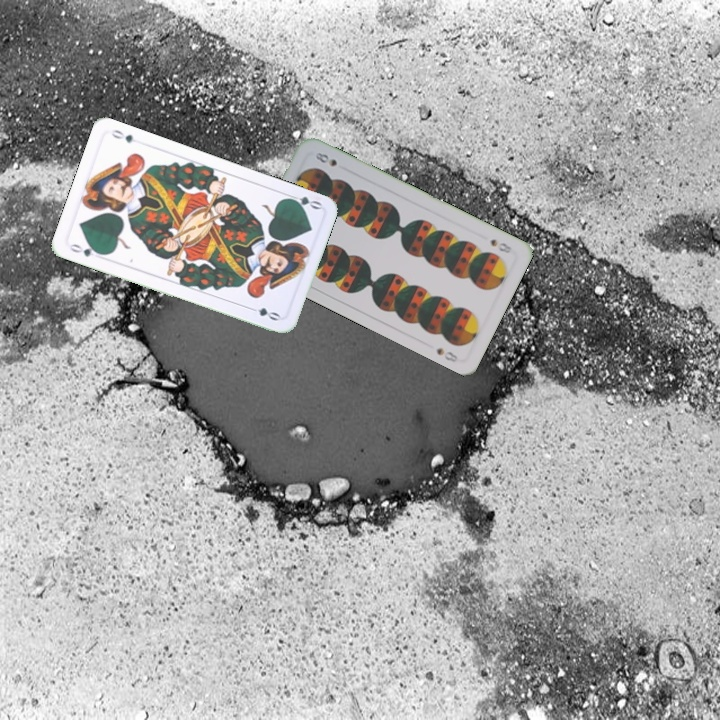GO: (283, 190, 324, 212), (66, 240, 106, 259)
S8: (486, 235, 515, 256)
